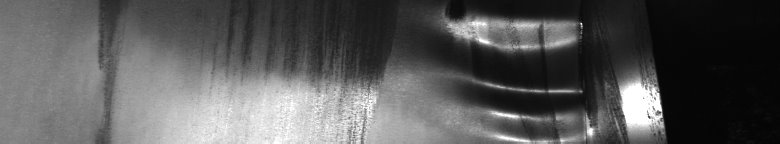ke: (442, 8, 632, 136)
